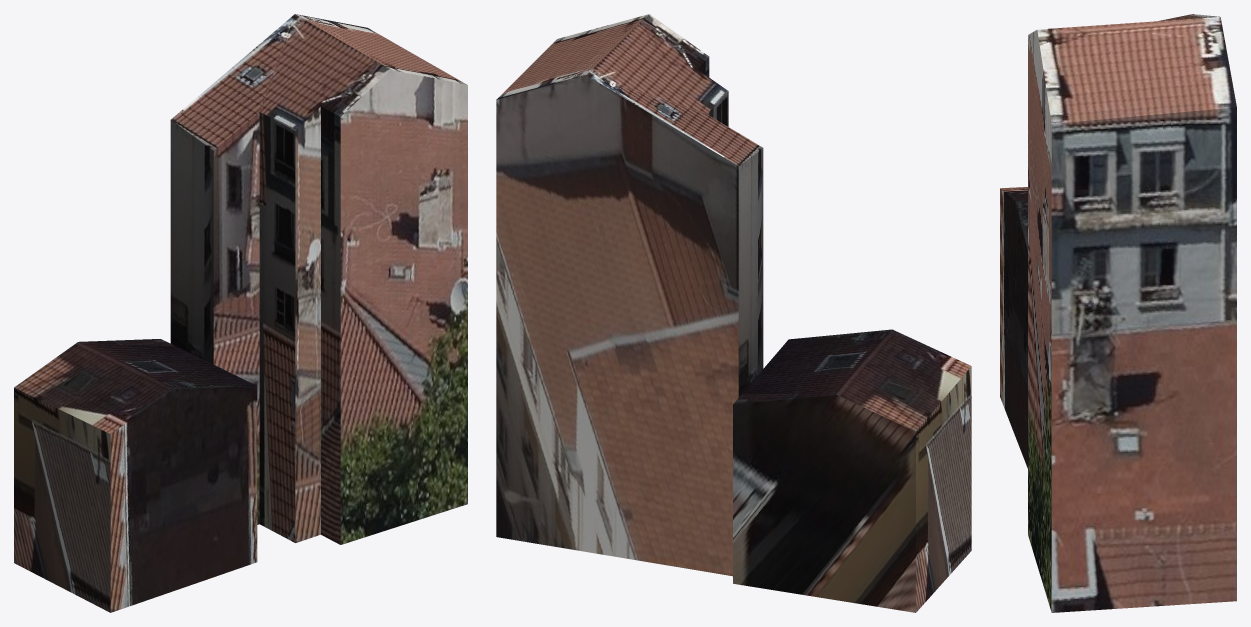
The picture shows the model from 3 angles, left to right: view 1: azimuth 30°, elevation 25°; view 2: azimuth 150°, elevation 25°; view 3: azimuth 270°, elevation 25°; orthographic projection. The views are drawn at different scales.
Visible parts, largest first — view 1: Z_UP; view 2: Z_UP; view 3: Z_UP.
Boxes of the visible parts, <box> form: Z_UP: <box>14,14,467,612</box>; Z_UP: <box>496,14,971,612</box>; Z_UP: <box>1000,14,1236,612</box>.
Bounding box in the file's own units: 17.83 × 19.62 × 7.82.
2 materials, 1 textured.
